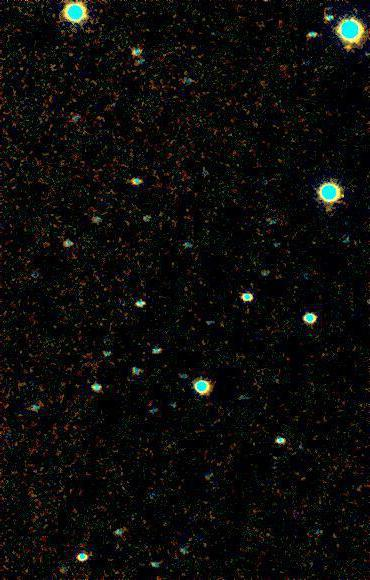star: (334, 31, 364, 61)
